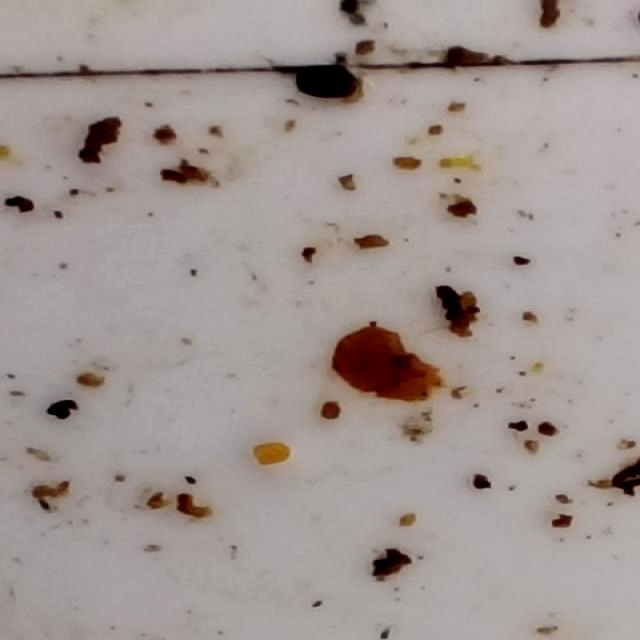varroa: (292, 63, 357, 101)
